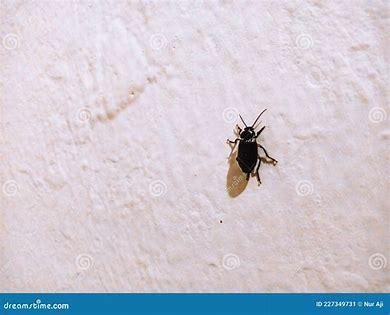cockroach: (217, 109, 286, 205)
